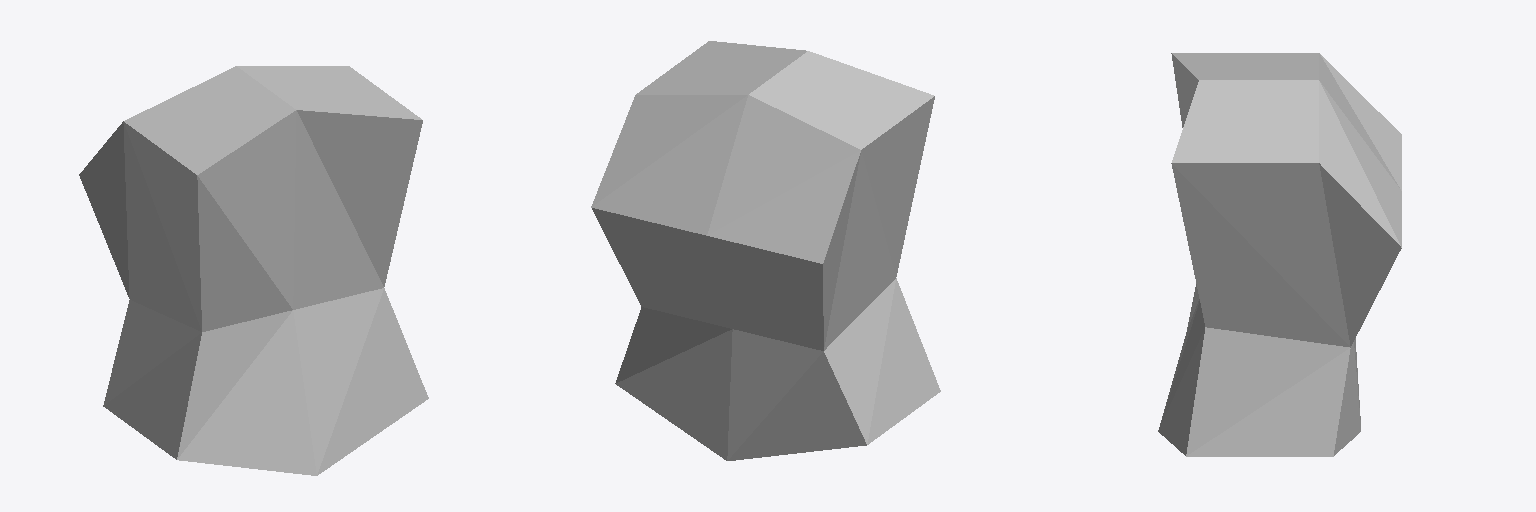
Rendered from samurai_body.obj.
The picture shows the model from 3 angles: view 1: azimuth 30°, elevation 25°; view 2: azimuth 150°, elevation 25°; view 3: azimuth 270°, elevation 25°; orthographic projection.
Visible parts, largest first — view 1: Cube; view 2: Cube; view 3: Cube.
Part boxes in pixels (x1,y1,x2,y2): Cube: (79, 66, 428, 475); Cube: (591, 41, 940, 460); Cube: (1158, 53, 1401, 456).
Bounding box in the file's own units: 0.7636 × 1.02 × 0.6392.